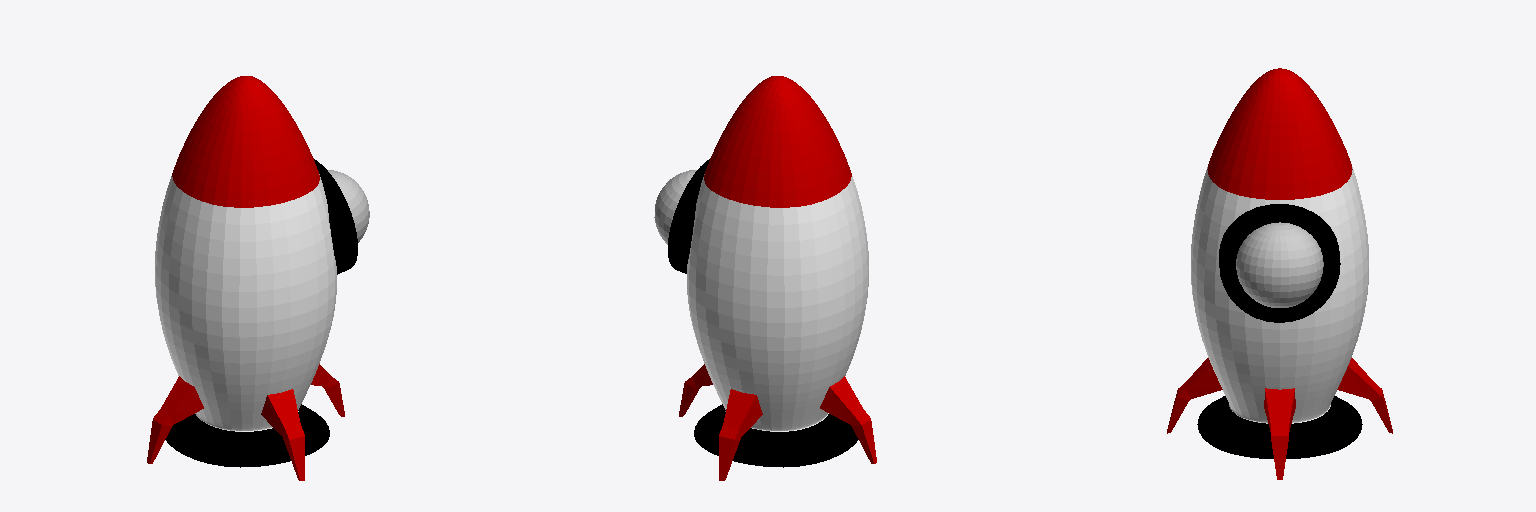
Rendered from ship.obj.
3 renders of one model, left to right at view 1: azimuth 30°, elevation 25°; view 2: azimuth 150°, elevation 25°; view 3: azimuth 270°, elevation 25°, orthographic.
Visible parts, largest first — view 1: Cube, Sphere, Cube.003, Cube.002, Cube.004; view 2: Cube, Sphere, Cube.001, Cube.002, Cube.004; view 3: Cube, Sphere, Cube.004, Cube.001, Cube.003.
Part boxes in pixels (left/top/right/bottom): Cube: left=155, top=76, right=336, bottom=467; Sphere: left=314, top=159, right=369, bottom=274; Cube.003: left=261, top=389, right=304, bottom=480; Cube.002: left=147, top=376, right=203, bottom=463; Cube.004: left=311, top=364, right=344, bottom=416; Cube: left=687, top=76, right=868, bottom=467; Sphere: left=654, top=159, right=709, bottom=273; Cube.001: left=719, top=389, right=762, bottom=480; Cube.002: left=820, top=376, right=876, bottom=463; Cube.004: left=679, top=364, right=712, bottom=416; Cube: left=1191, top=68, right=1368, bottom=458; Sphere: left=1219, top=204, right=1340, bottom=322; Cube.004: left=1264, top=388, right=1295, bottom=479; Cube.001: left=1337, top=358, right=1392, bottom=433; Cube.003: left=1167, top=358, right=1222, bottom=433.
Size of the model in its own units: 2.85 by 4.58 by 2.59.